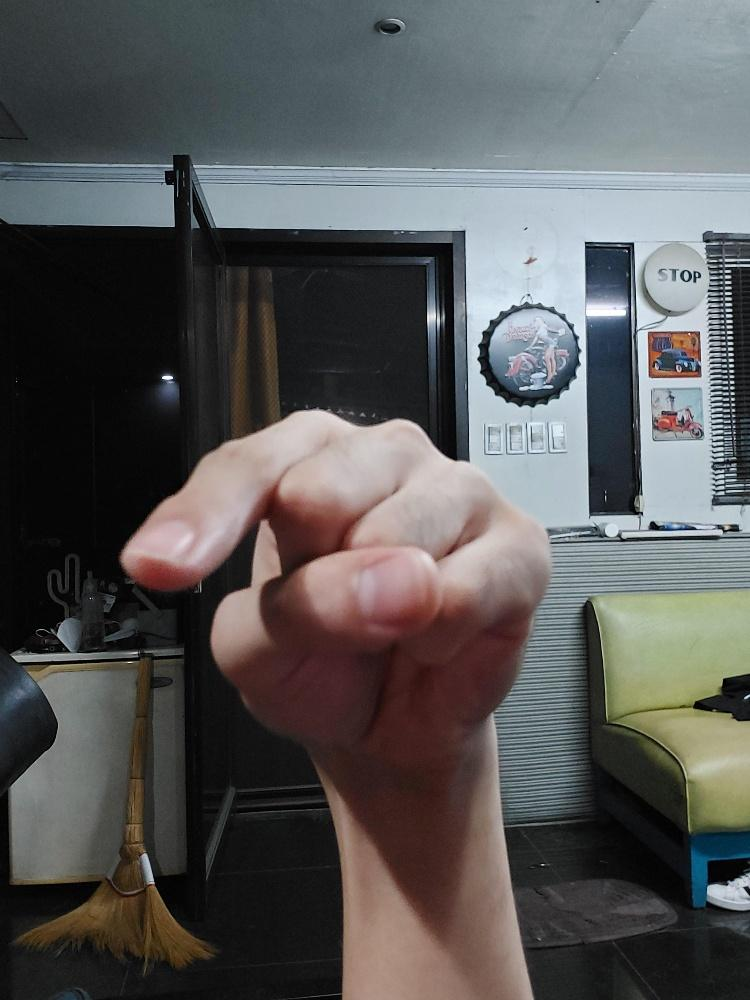z: (118, 408, 550, 763)
